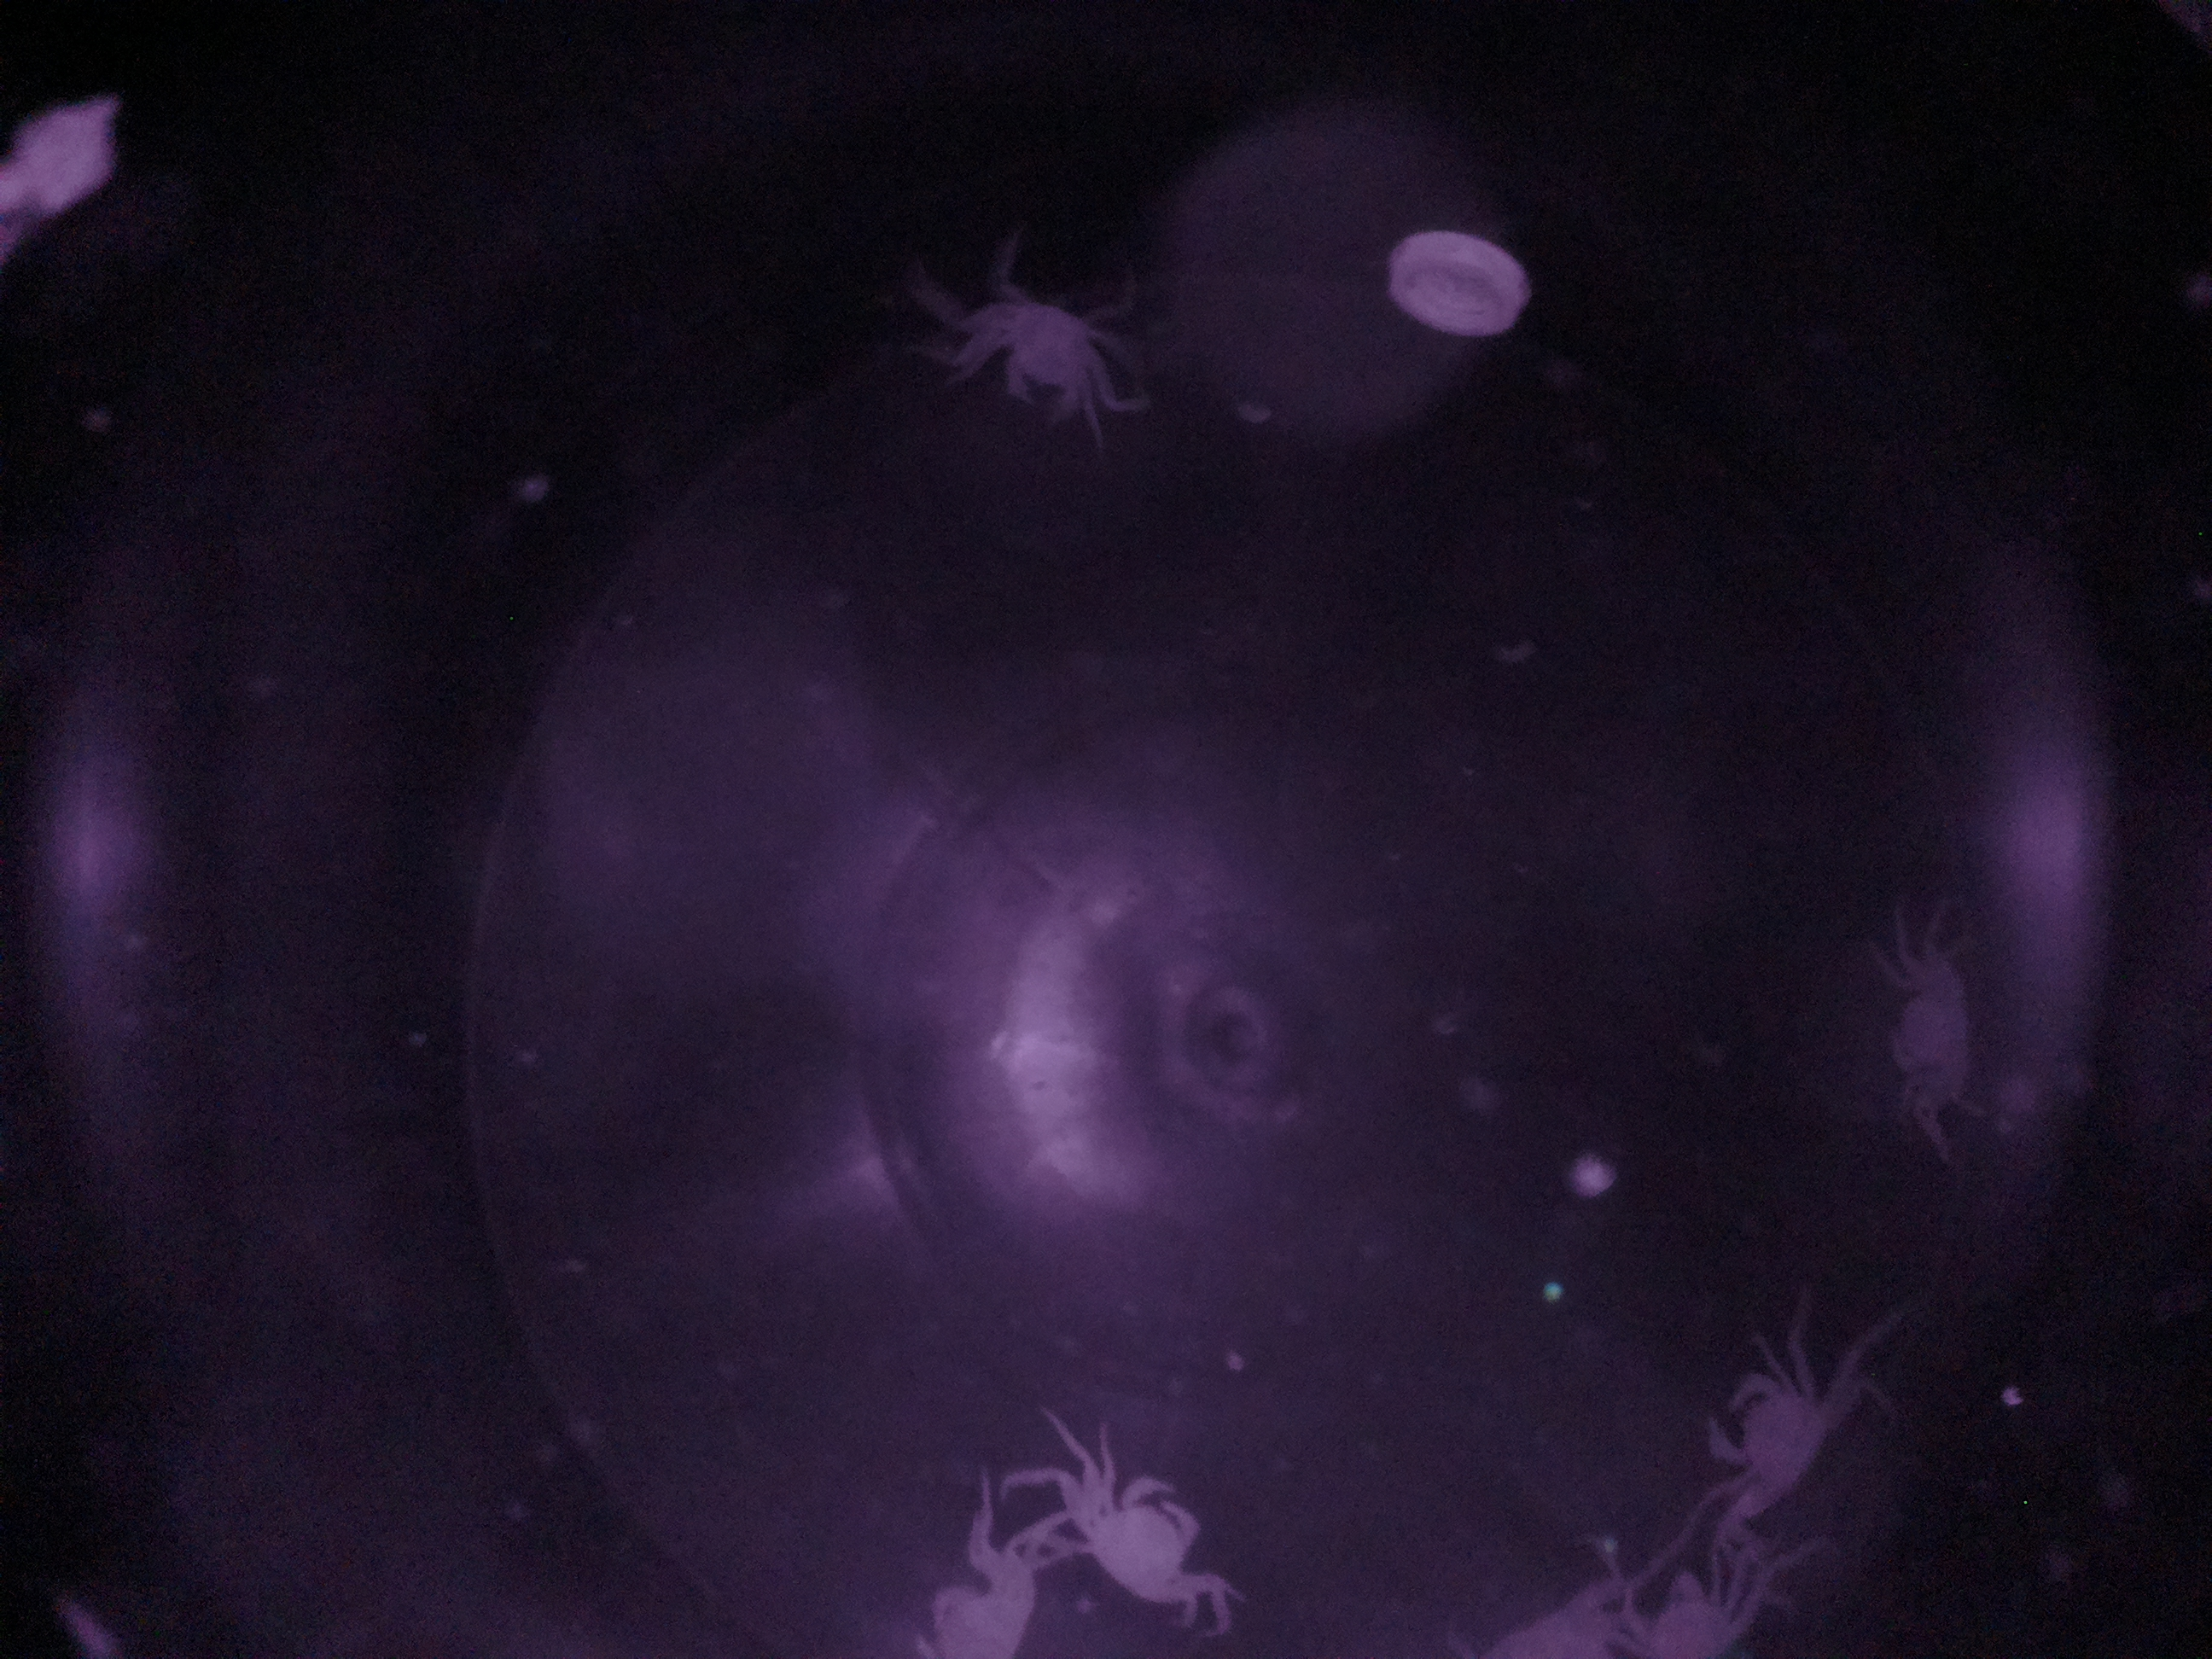Crab: (948, 249, 1108, 448), (1695, 1342, 1853, 1542), (1071, 1452, 1244, 1628), (1864, 911, 2000, 1117)
